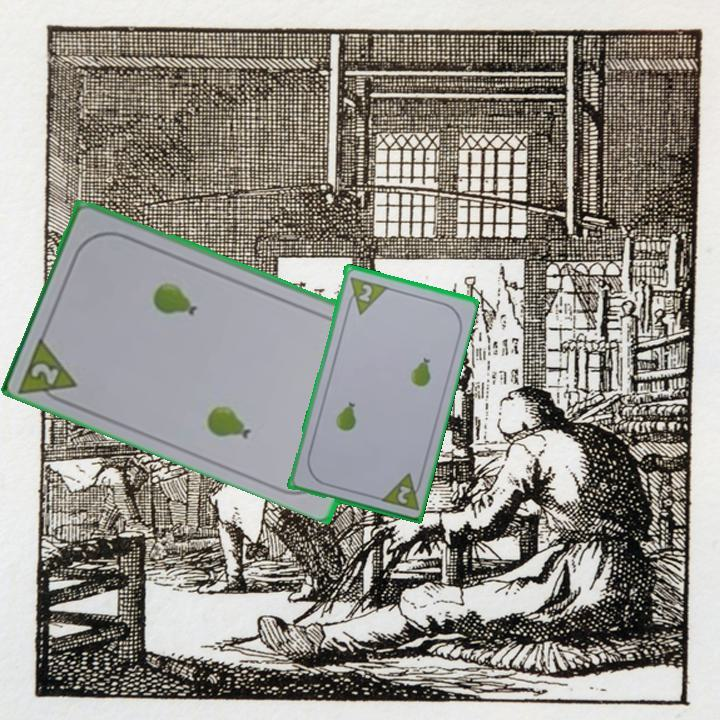2p: (16, 330, 82, 410), (376, 469, 426, 513), (342, 273, 389, 318)
